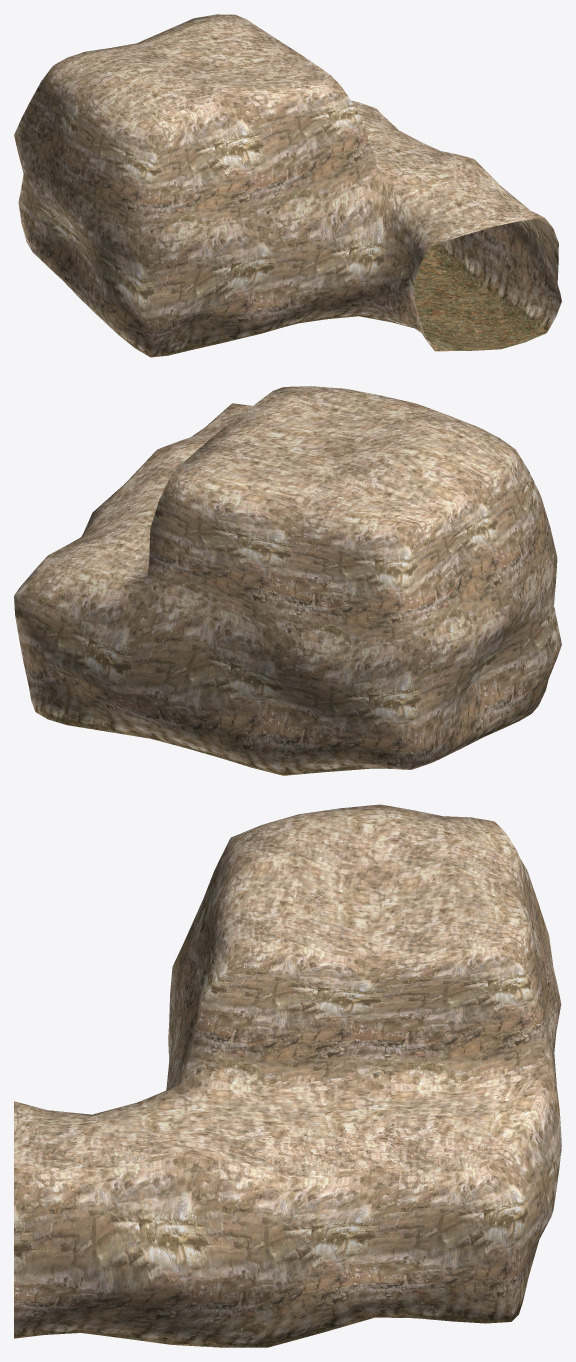
The model's file is thm_all_cave_flatland_s02_r11_mesh_r11.fbx.
The picture shows the model from 3 angles, top to bottom: view 1: azimuth 30°, elevation 25°; view 2: azimuth 150°, elevation 25°; view 3: azimuth 270°, elevation 25°; orthographic projection. The views are drawn at different scales.
Parts seen in each view (by area): view 1: mesh_node; view 2: mesh_node; view 3: mesh_node.
Boxes of the visible parts, left/top/right/bottom form: mesh_node: left=14, top=14, right=561, bottom=357; mesh_node: left=14, top=386, right=561, bottom=775; mesh_node: left=14, top=804, right=561, bottom=1347.
Size of the model in its own units: 32.88 by 20.28 by 28.87.
